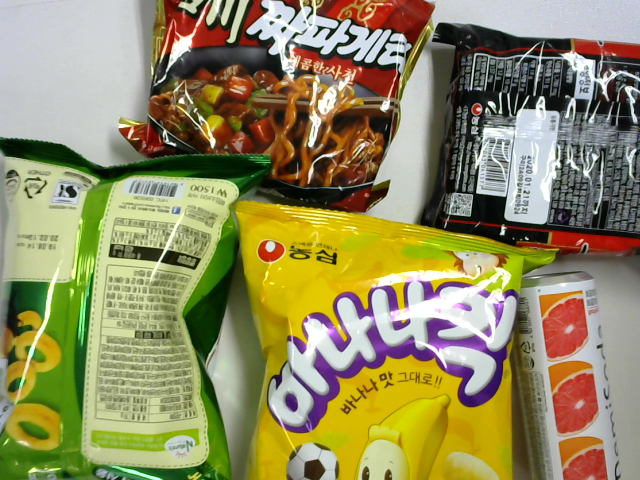Banana_Kick: (229, 202, 546, 480)
Demisoda_Grapefruit_Can_250ml: (517, 272, 627, 480)
Grilled_Onions: (3, 132, 264, 480)
Sichuan_Chapaghetti: (125, 4, 439, 212)
Sinramen_Black: (431, 20, 640, 246)
